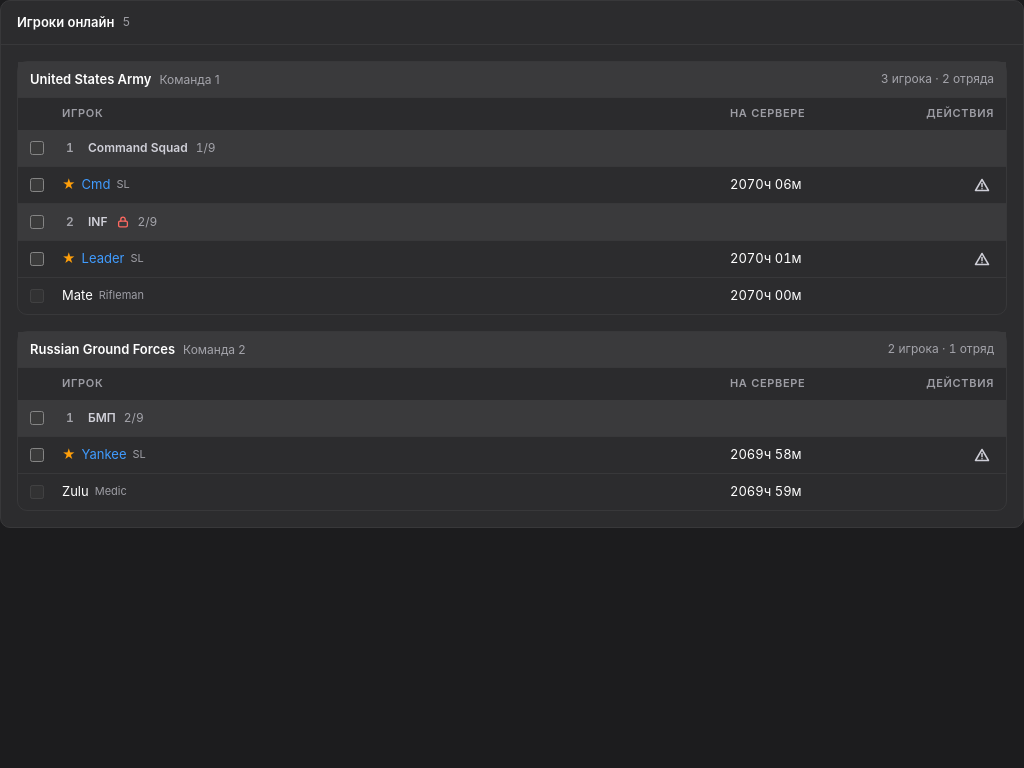
it: LivePlayers — быстрые действия над игроком › keeps the dialog open and explains why a target was not affected
Check: the link "Leader" is shown, box [82, 249, 124, 268]
Click the button named "Предупредить: Leader" at (982, 259), box [970, 247, 994, 271]
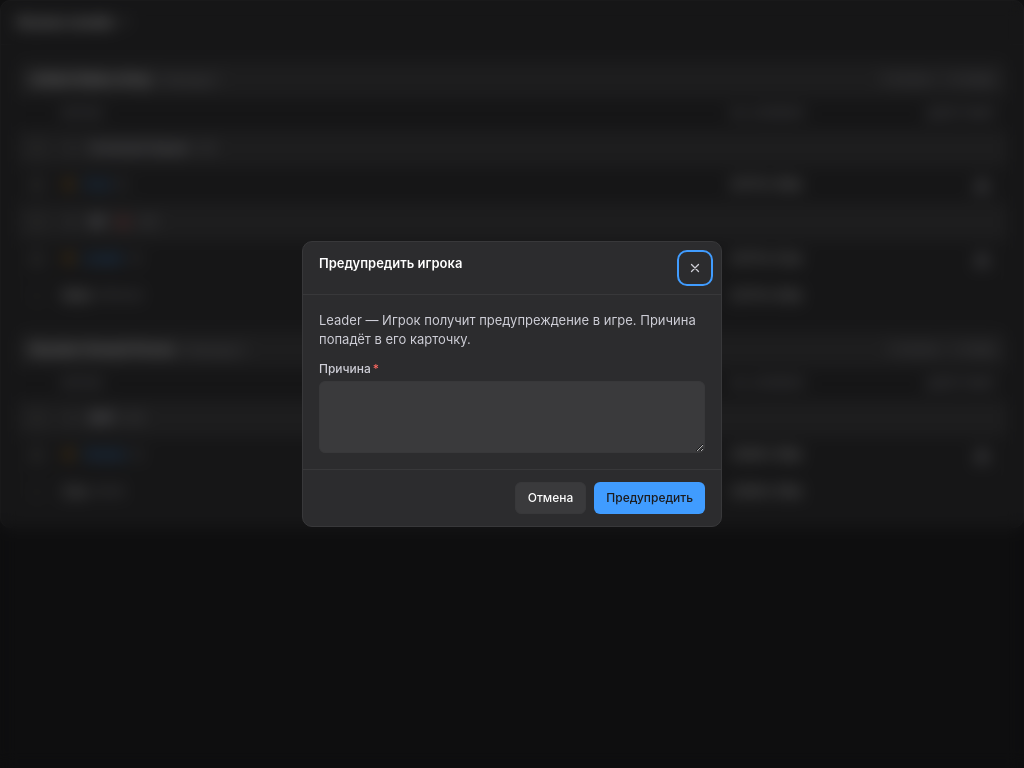
Type "мат" into the text box labelled "Причина*" at (512, 417), box [319, 381, 705, 453]
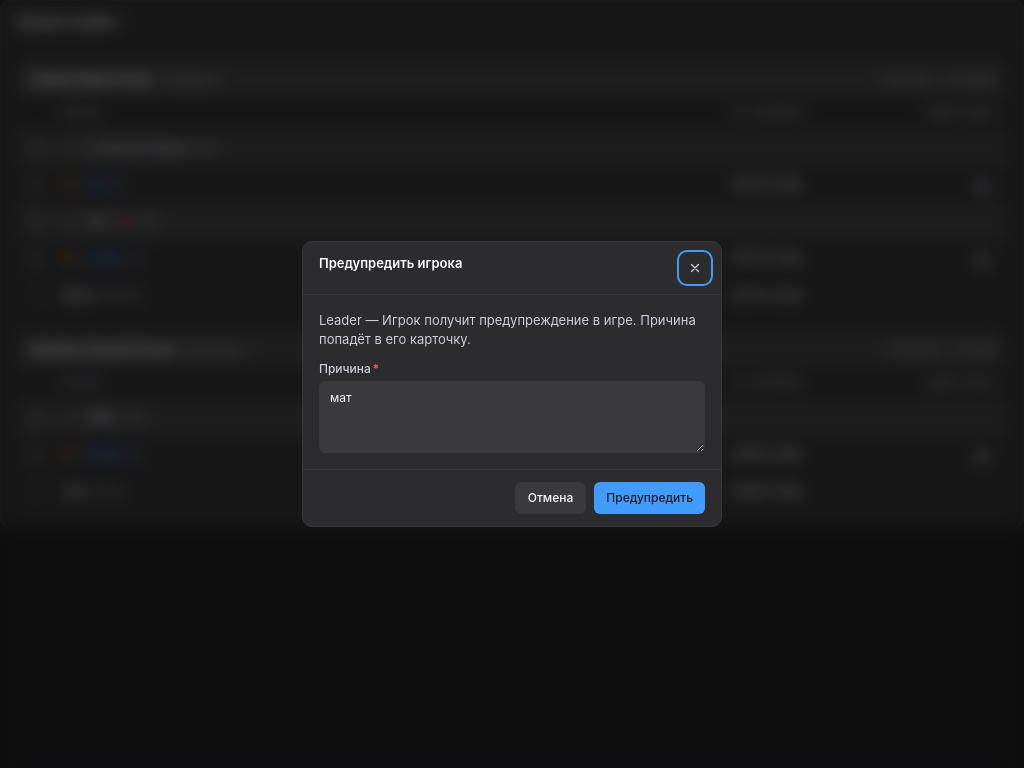
Click the button "Предупредить" at (650, 498), box [594, 482, 705, 514]
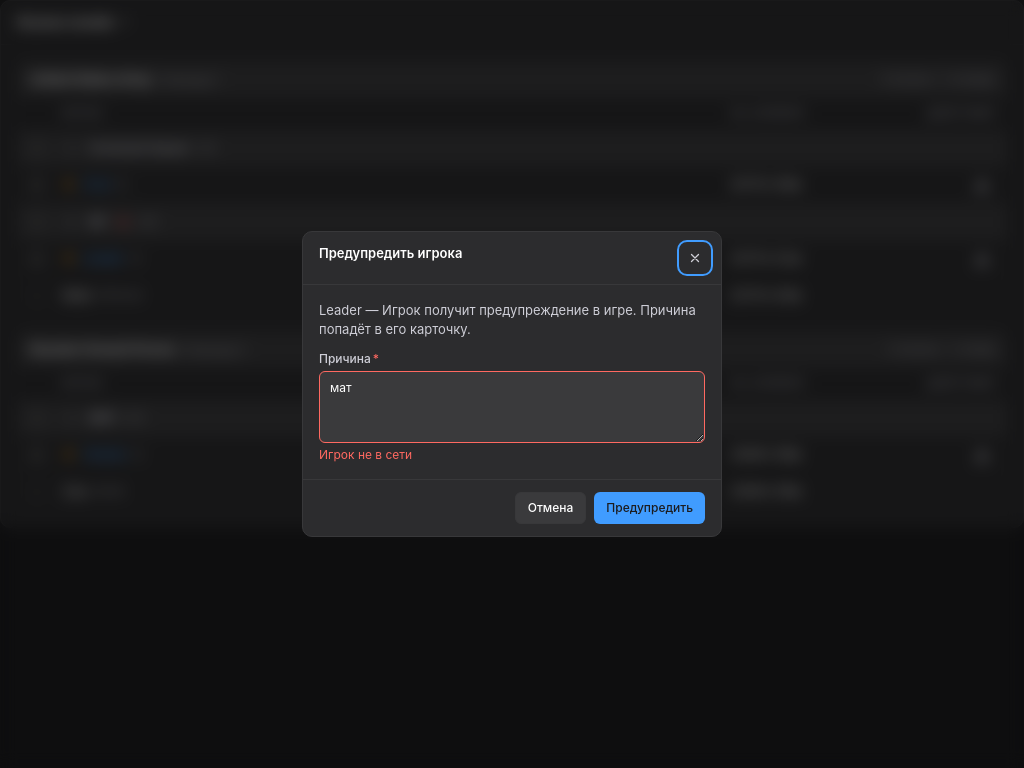
Check: the heading "Предупредить игрока" is shown, box [319, 244, 462, 263]
Check: the message reads "Игрок не в сети", box [319, 447, 412, 462]
